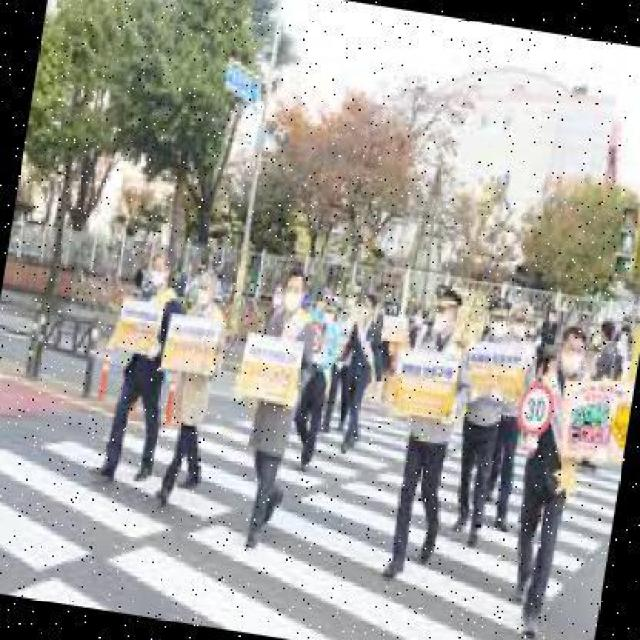Person: (492, 316, 603, 638), (220, 264, 326, 554), (380, 285, 478, 583), (437, 292, 526, 553), (99, 252, 188, 483), (152, 266, 236, 508), (327, 294, 396, 455)
